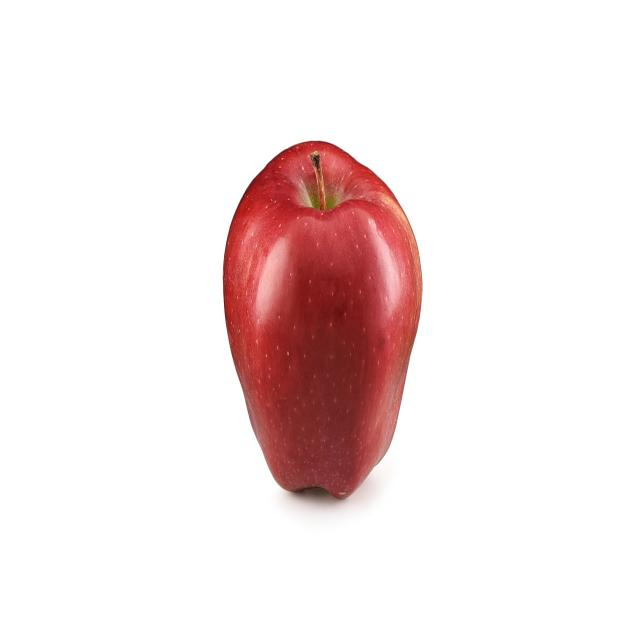Apple: (224, 136, 429, 498)
